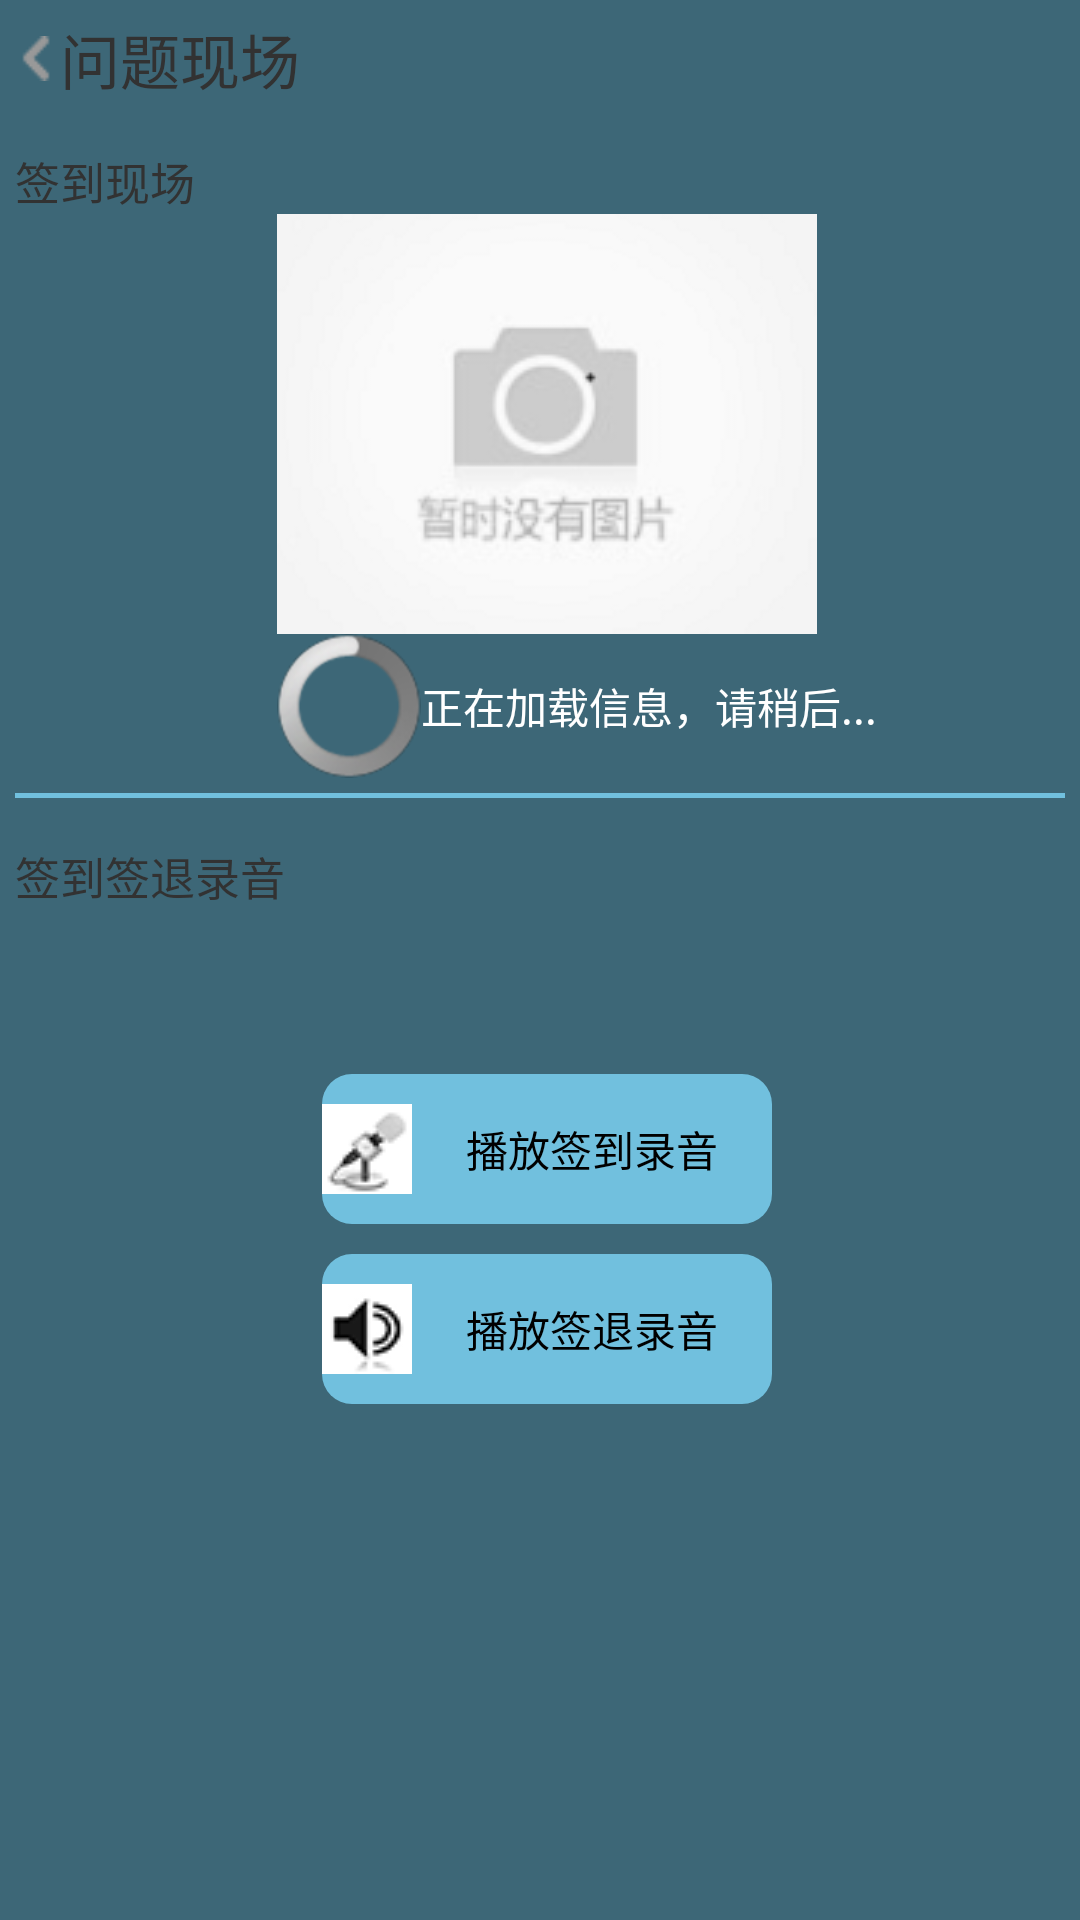

Icons on this 1080x1920 Android screen, each with its box as (x1,y1,x2,y2):
left: (23,36,49,81)
